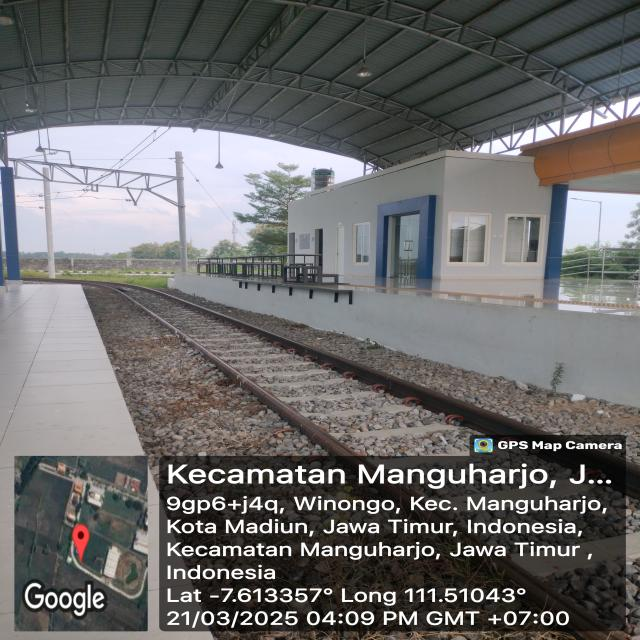rail-detection: (139, 287, 578, 441), (130, 298, 357, 456), (574, 449, 640, 499)
